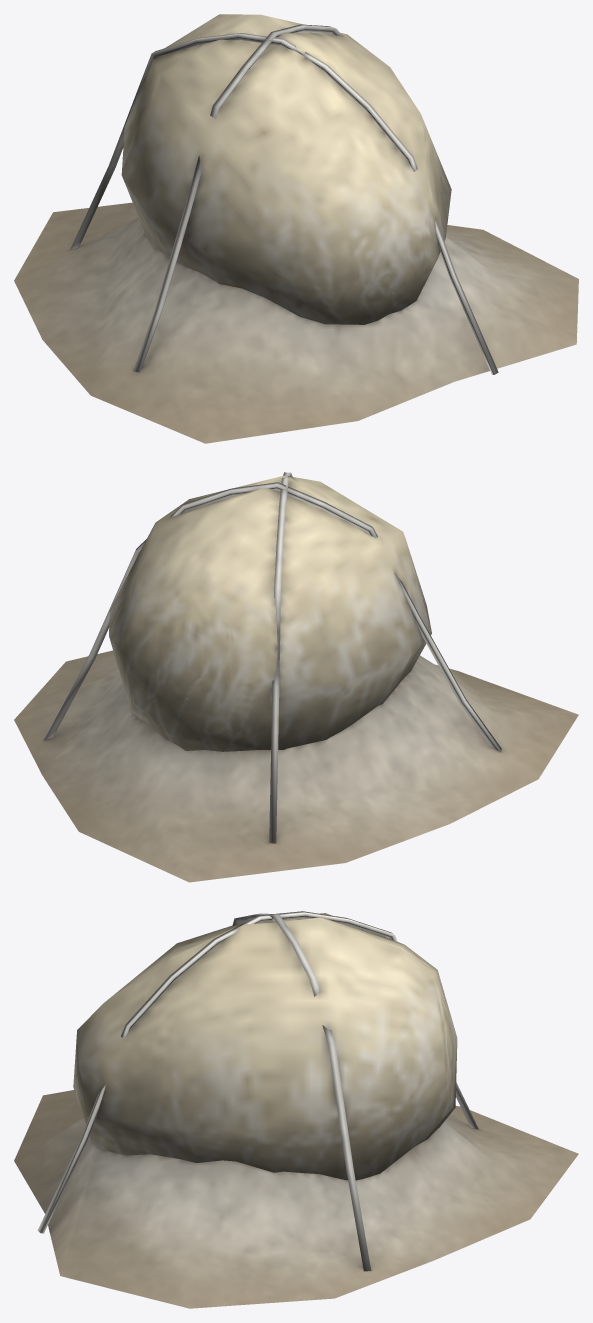
File: SpiderEgg_Single.fbx
The picture shows the model from 3 angles, top to bottom: view 1: azimuth 30°, elevation 25°; view 2: azimuth 150°, elevation 25°; view 3: azimuth 270°, elevation 25°; orthographic projection. The views are drawn at different scales.
Visible parts, largest first — view 1: SpiderEgg_Single; view 2: SpiderEgg_Single; view 3: SpiderEgg_Single.
Part boxes in pixels (x1=…): SpiderEgg_Single: x1=14, y1=14, x2=578, y2=443; SpiderEgg_Single: x1=14, y1=472, x2=578, y2=882; SpiderEgg_Single: x1=14, y1=911, x2=578, y2=1308.
Bounding box in the file's own units: 0.5348 × 0.2983 × 0.5535.
